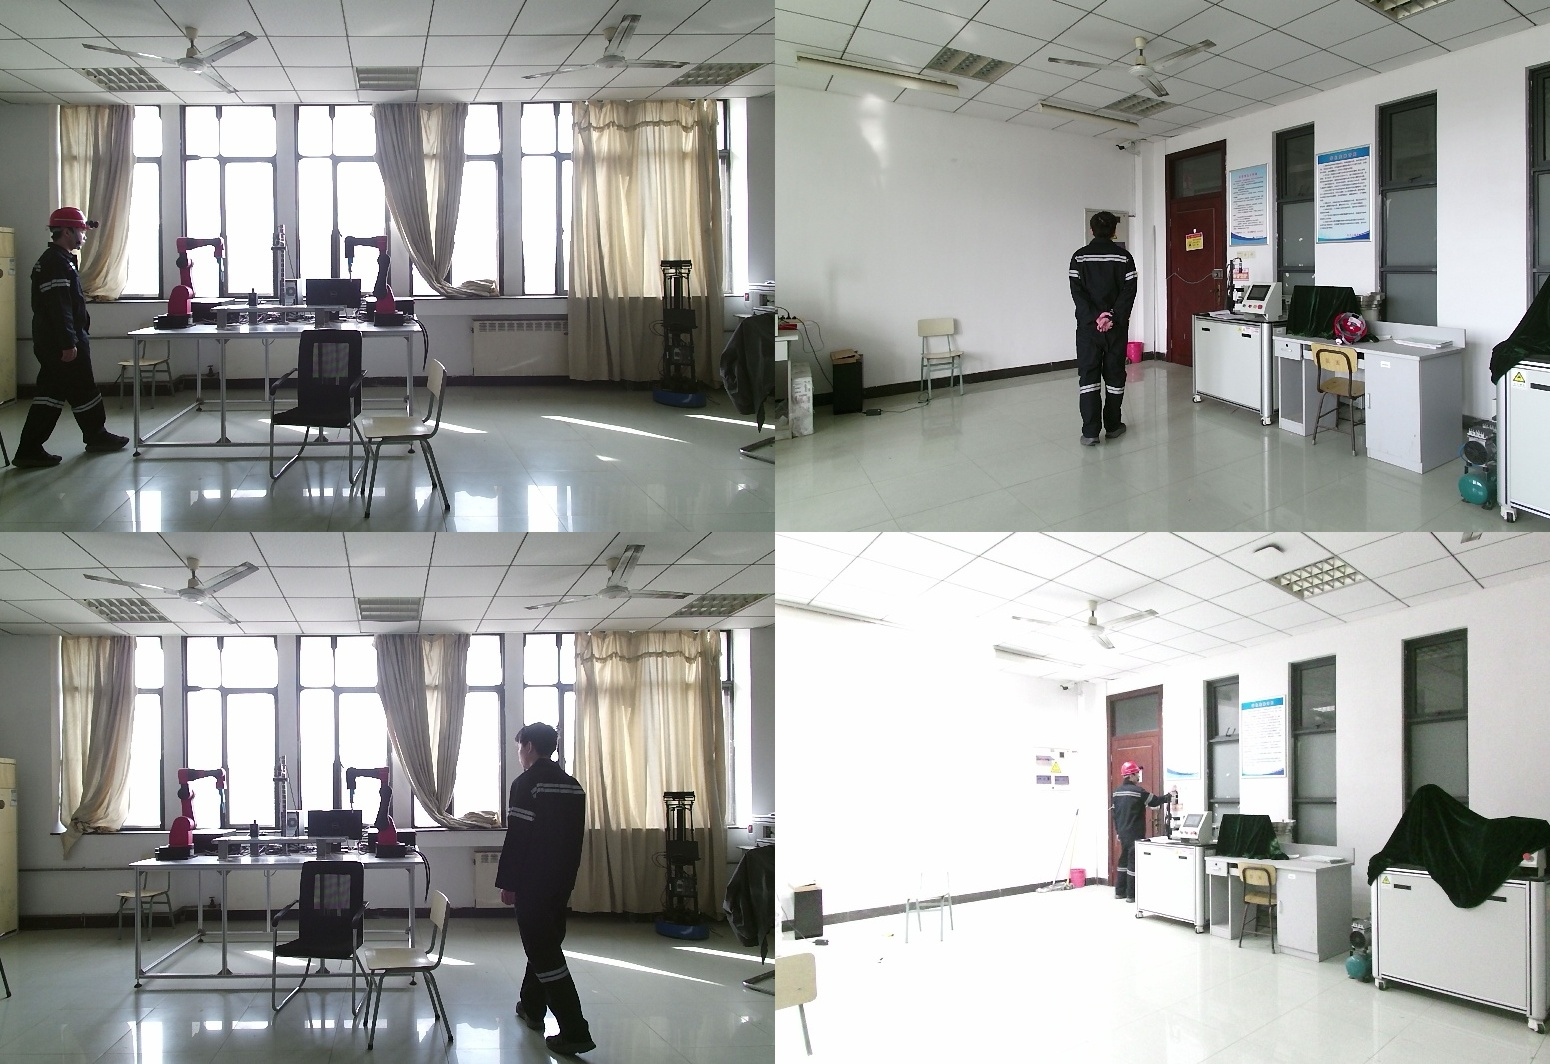person: (499, 726, 608, 1055), (12, 207, 130, 467), (1063, 211, 1142, 450), (1106, 762, 1168, 907)
